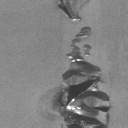slag inclusion: (52, 26, 110, 128), (57, 0, 82, 22), (83, 44, 92, 57)
